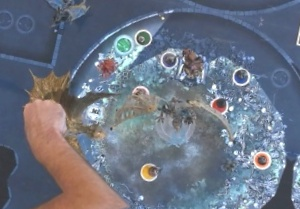blue: (228, 65, 253, 89)
green: (132, 26, 156, 50)
orange: (248, 145, 275, 173)
pink: (129, 81, 154, 105)
red: (209, 93, 234, 117)
violet: (158, 47, 181, 71)
yellow: (138, 159, 162, 184)
